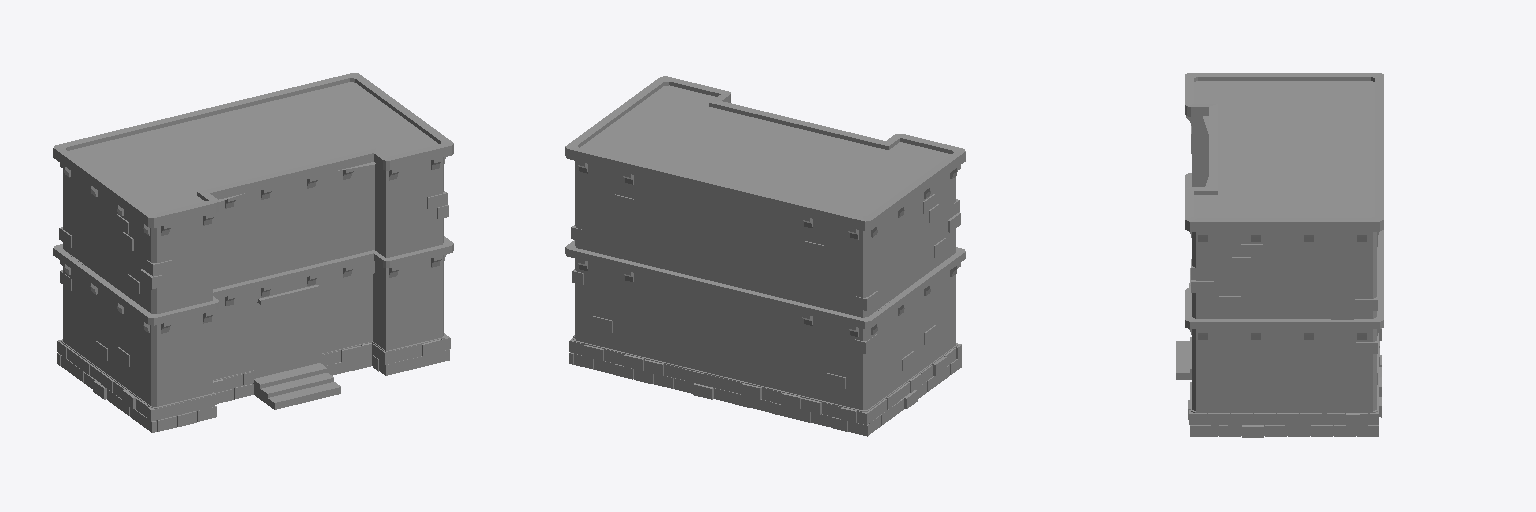
Rendered from 2Story_Wide_Base.obj.
The picture shows the model from 3 angles: view 1: azimuth 30°, elevation 25°; view 2: azimuth 150°, elevation 25°; view 3: azimuth 270°, elevation 25°; orthographic projection.
Parts seen in each view (by area): view 1: 2Story_Wide_Base_Cube.174; view 2: 2Story_Wide_Base_Cube.174; view 3: 2Story_Wide_Base_Cube.174.
Boxes of the visible parts, x1,y1,x2,y2 form: 2Story_Wide_Base_Cube.174: [53, 73, 453, 432]; 2Story_Wide_Base_Cube.174: [565, 76, 965, 436]; 2Story_Wide_Base_Cube.174: [1176, 73, 1383, 437].
Size of the model in its own units: 3.83 by 2.61 by 2.26.